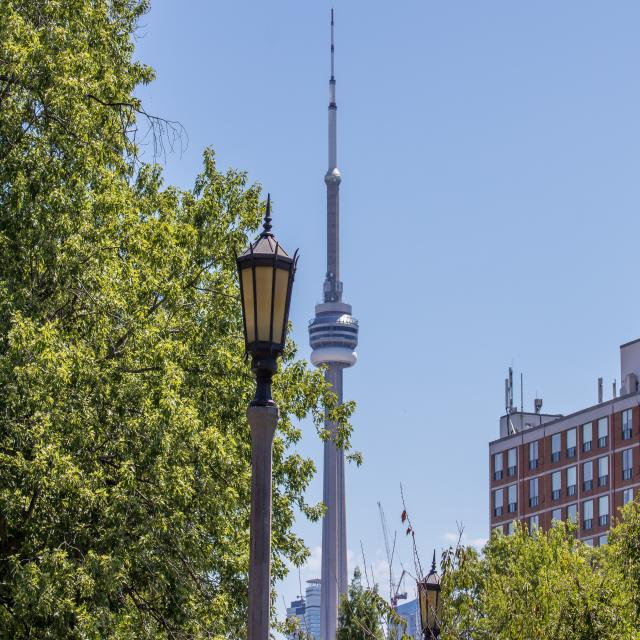Street Light: (231, 194, 300, 640)
